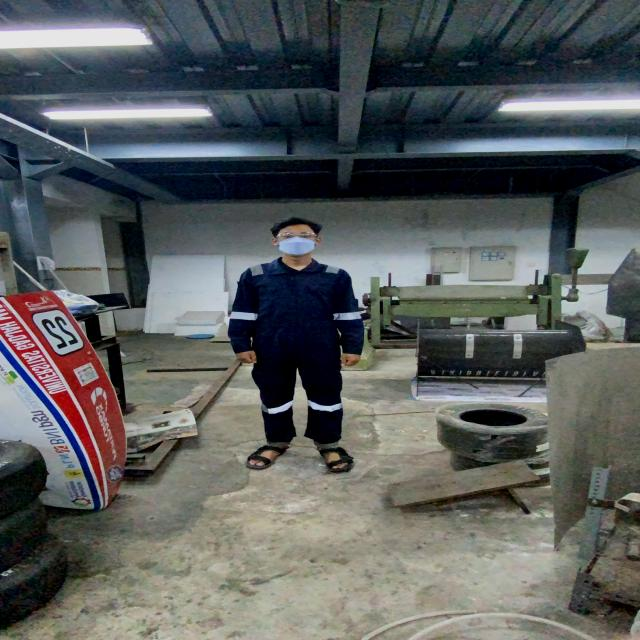face_mask: (277, 230, 319, 256)
glasses: (274, 230, 320, 240)
hand_noglove: (336, 351, 369, 368), (230, 347, 261, 365)
head_nohelmet: (271, 216, 320, 231)
person: (218, 216, 374, 471)
